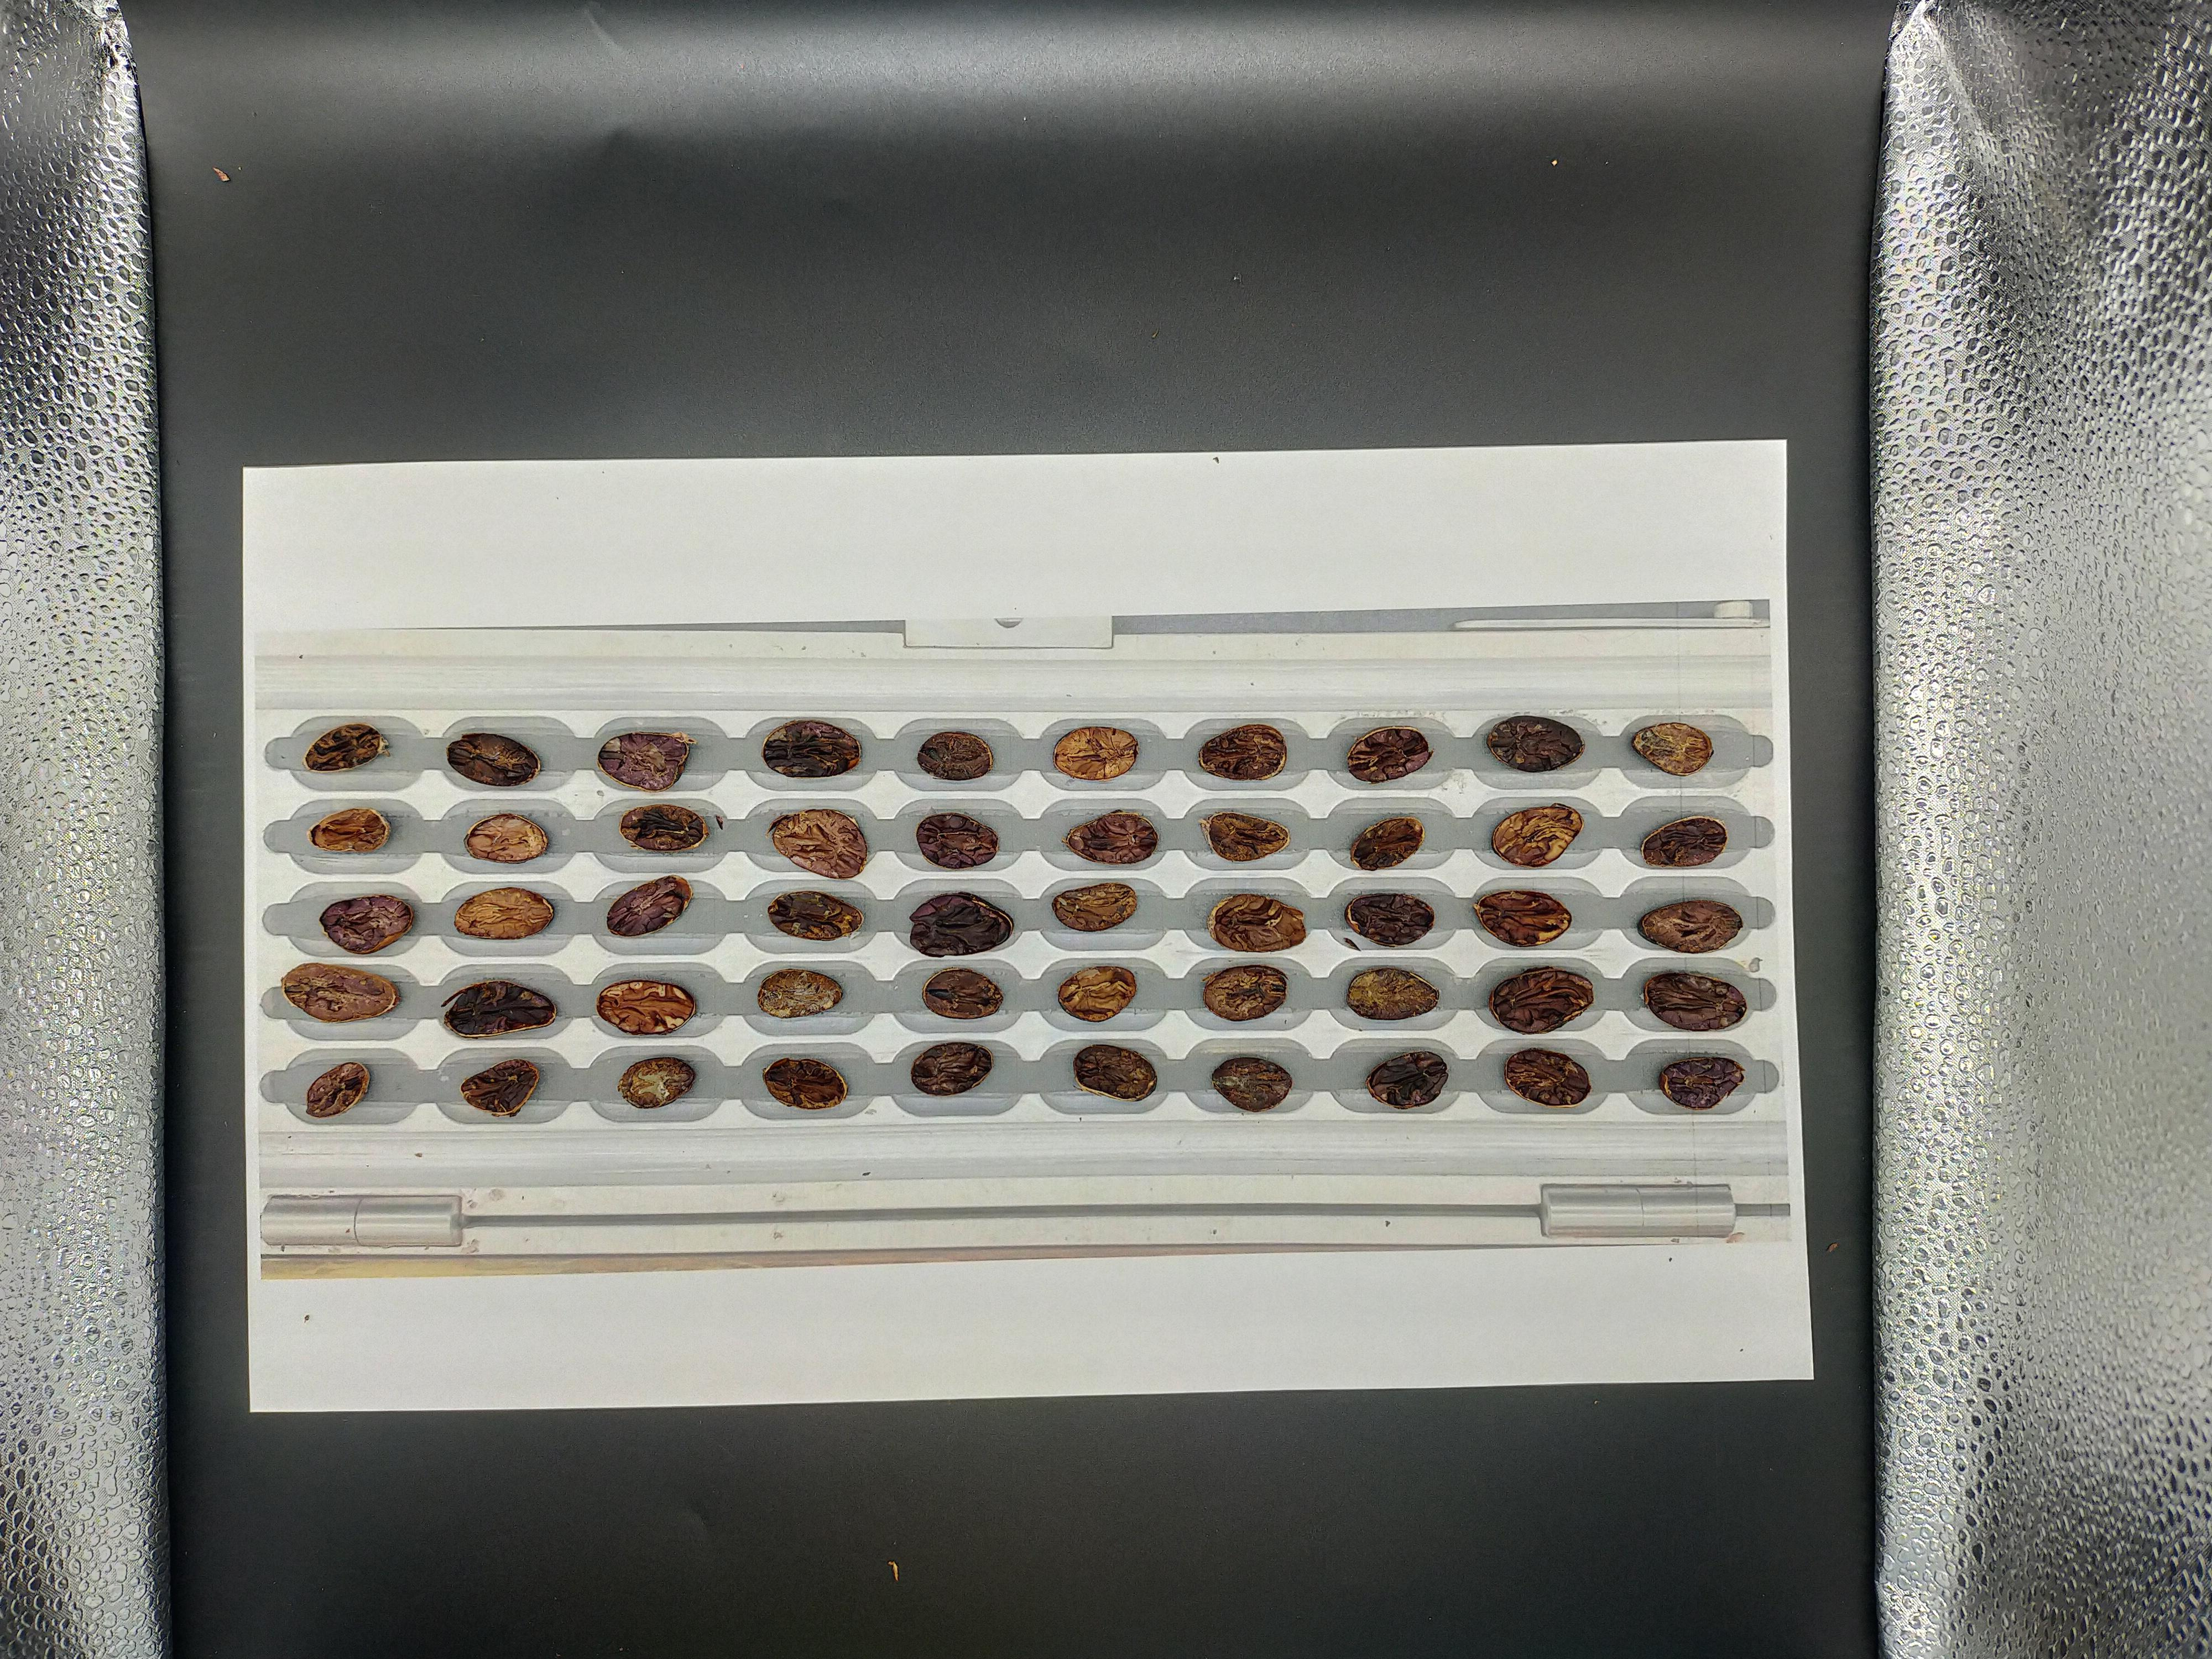Brown - G1: (1839, 495, 1900, 533), (1834, 455, 1890, 490), (1383, 500, 1439, 533), (1235, 410, 1282, 441)
Brown - G2: (1472, 411, 1527, 451), (1696, 455, 1752, 491), (1839, 410, 1893, 446), (1465, 538, 1517, 575), (1622, 411, 1676, 446), (1618, 490, 1669, 526), (1846, 535, 1897, 570), (1691, 369, 1743, 403), (1770, 415, 1817, 450), (1691, 415, 1743, 444)
Brown - G3: (1223, 490, 1289, 526), (1918, 458, 1975, 493), (1615, 368, 1667, 404), (1627, 532, 1679, 566), (1310, 453, 1366, 484), (1233, 538, 1277, 577), (1615, 450, 1667, 481), (1693, 493, 1745, 525), (1550, 490, 1597, 525), (1317, 415, 1364, 448)
Insect-damaged: (1766, 491, 1822, 526)
Mouldy: (1695, 538, 1747, 573), (1914, 366, 1963, 401), (1393, 538, 1440, 573), (1465, 493, 1515, 525), (1547, 371, 1590, 406)
Partly Purple - G1: (1543, 455, 1601, 493), (1768, 369, 1817, 404)
Partly Purple - G2: (1303, 500, 1369, 535), (1919, 495, 1979, 530), (1468, 366, 1524, 403), (1764, 455, 1817, 488), (1545, 415, 1594, 450), (1392, 411, 1446, 441)
Partly Purple - G3: (1386, 446, 1437, 484)
Total Purple - G2: (1925, 537, 1977, 570)
Total Purple - G3: (1383, 369, 1440, 408), (1240, 455, 1294, 491)
Very Dark Brown - G1: (1235, 366, 1282, 401)
Very Dark Brown - G2: (1541, 530, 1594, 565), (1778, 533, 1827, 570), (1918, 415, 1968, 448), (1313, 540, 1360, 575)
Very Dark Brown - G3: (1838, 364, 1895, 399), (1306, 371, 1360, 406), (1472, 455, 1526, 486)
